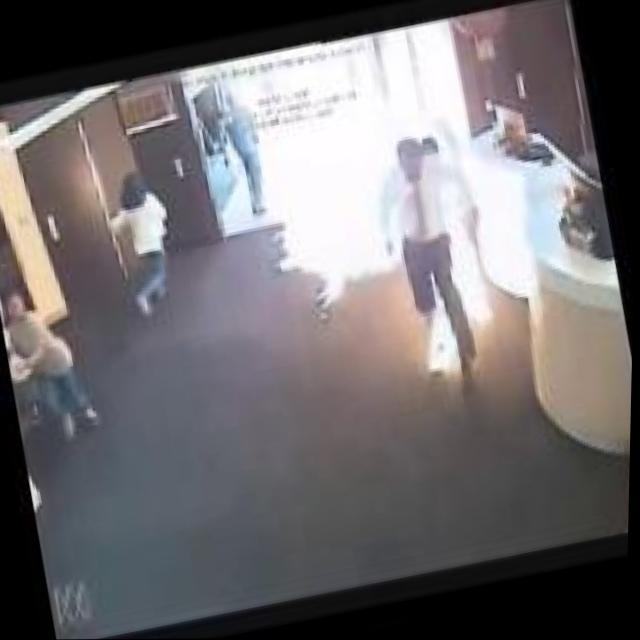fire: (229, 98, 433, 314), (447, 231, 498, 332), (409, 305, 468, 384)
